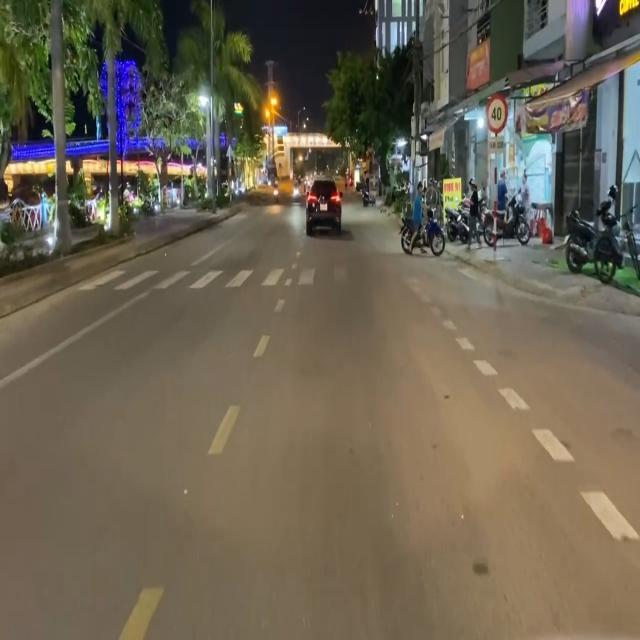walk-crossing: (90, 263, 514, 300)
